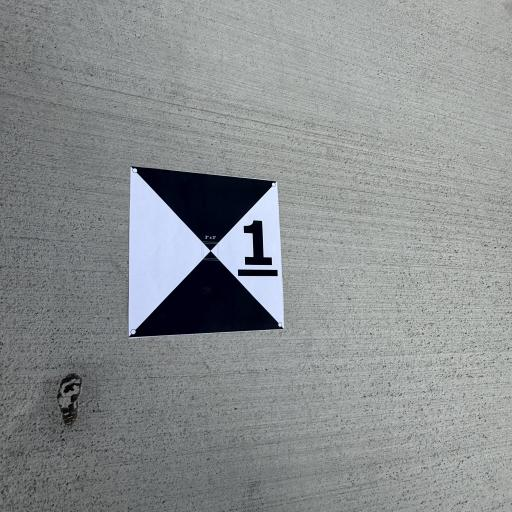target1: (123, 154, 292, 349)
